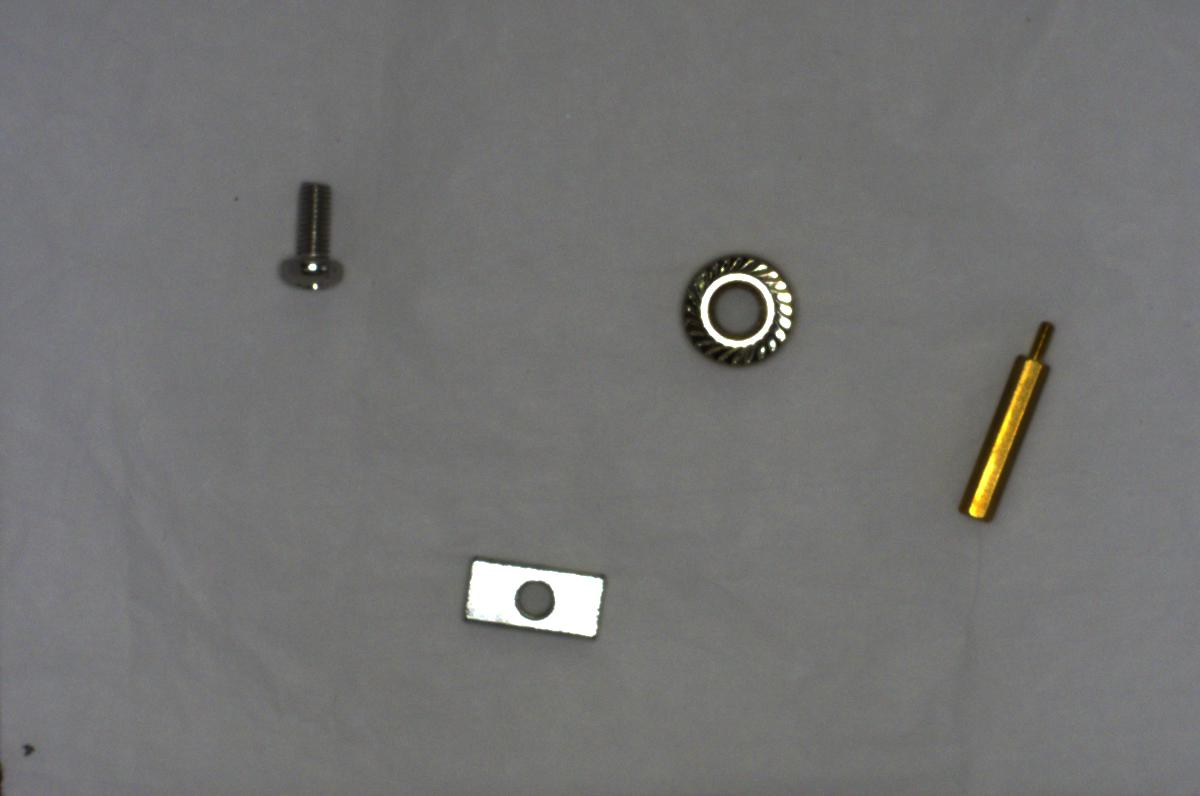Flange nut: (668, 248, 804, 372)
Hexagon pillar: (940, 318, 1064, 519)
Rectangular nut: (457, 549, 605, 648)
Round head screw: (261, 178, 347, 299)
